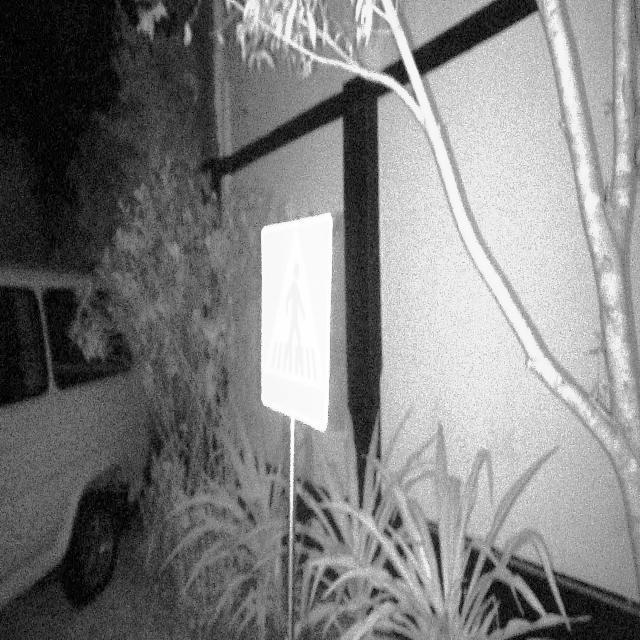Sign: (259, 210, 335, 434)
